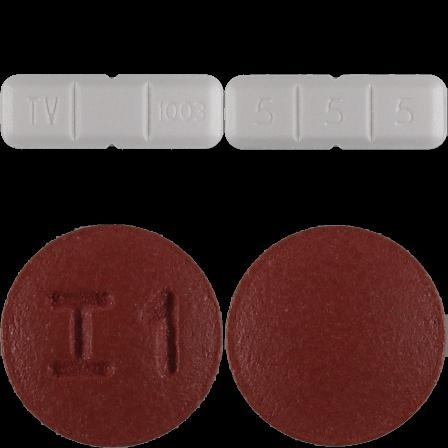68788-5665: (0, 0, 224, 224)
